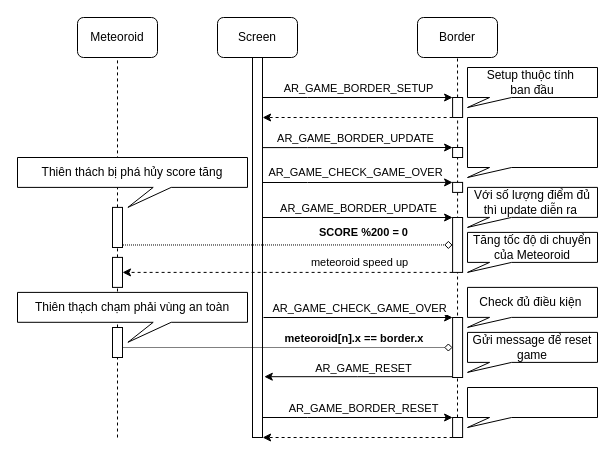
The diagram is 615 pixels wide and 463 high, and some of its shapes have lost their labels. Here are the shapes that lost their labels. From the top down, the box of each, then its label:
(466, 116, 598, 178): Update và Check không đủ điều kiện thực hiện
(466, 386, 598, 428): Reset thuộc tính
